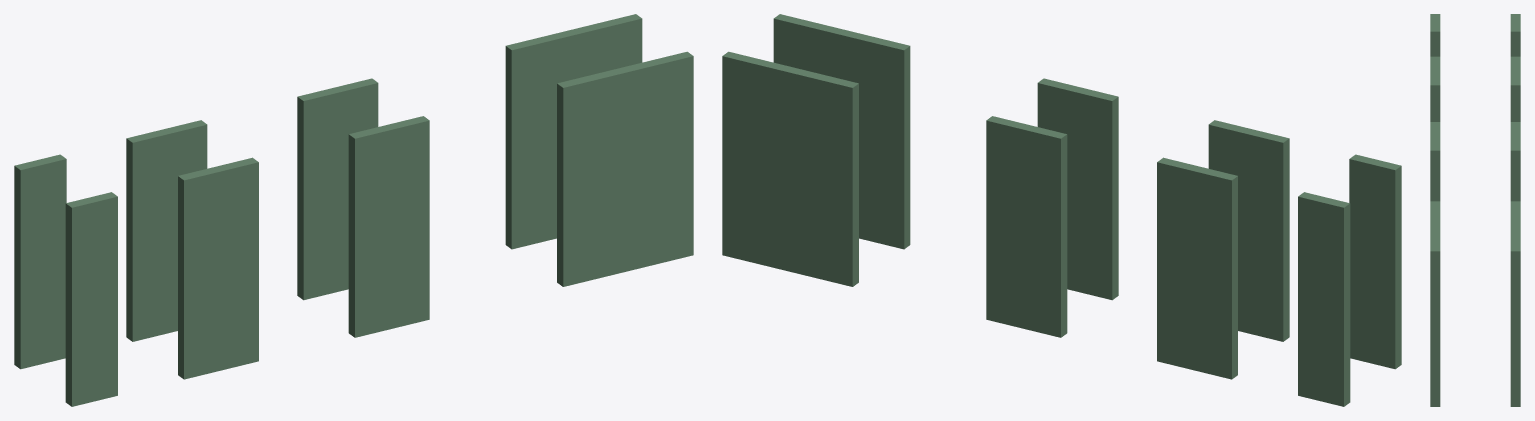
File: Columns.fbx
3 renders of one model, left to right at view 1: azimuth 30°, elevation 25°; view 2: azimuth 150°, elevation 25°; view 3: azimuth 270°, elevation 25°, orthographic. The views are drawn at different scales.
Parts seen in each view (by area): view 1: Column__9_, Column__7_, Column__5_, Column__8_, Column__6_, Column__4_, Column__1_, Column, Column__3_, Column__2_; view 2: Column__8_, Column__6_, Column__4_, Column__9_, Column__7_, Column__5_, Column, Column__1_, Column__3_, Column__2_; view 3: Column__8_, Column__9_, Column__6_, Column__7_, Column__4_, Column__5_, Column__1_, Column.
Part boxes in pixels (x1=…): Column__9_: x1=557, y1=51, x2=693, y2=286; Column__7_: x1=348, y1=116, x2=429, y2=337; Column__5_: x1=178, y1=157, x2=258, y2=379; Column__8_: x1=505, y1=14, x2=642, y2=249; Column__6_: x1=297, y1=78, x2=378, y2=300; Column__4_: x1=126, y1=120, x2=207, y2=341; Column__1_: x1=65, y1=192, x2=117, y2=406; Column: x1=14, y1=154, x2=66, y2=369; Column__3_: x1=75, y1=198, x2=114, y2=405; Column__2_: x1=23, y1=160, x2=63, y2=361; Column__8_: x1=722, y1=51, x2=858, y2=286; Column__6_: x1=986, y1=116, x2=1067, y2=337; Column__4_: x1=1157, y1=157, x2=1237, y2=379; Column__9_: x1=773, y1=14, x2=910, y2=249; Column__7_: x1=1037, y1=78, x2=1118, y2=300; Column__5_: x1=1208, y1=120, x2=1289, y2=341; Column: x1=1298, y1=192, x2=1350, y2=406; Column__1_: x1=1349, y1=154, x2=1401, y2=369; Column__3_: x1=1352, y1=160, x2=1392, y2=330; Column__2_: x1=1301, y1=199, x2=1341, y2=405; Column__8_: x1=1510, y1=201, x2=1520, y2=406; Column__9_: x1=1430, y1=201, x2=1440, y2=406; Column__6_: x1=1510, y1=122, x2=1520, y2=201; Column__7_: x1=1430, y1=122, x2=1440, y2=201; Column__4_: x1=1510, y1=56, x2=1520, y2=121; Column__5_: x1=1430, y1=56, x2=1440, y2=121; Column__1_: x1=1430, y1=14, x2=1440, y2=56; Column: x1=1510, y1=14, x2=1520, y2=56.
Size of the model in its own units: 5784 by 1770 by 928.
